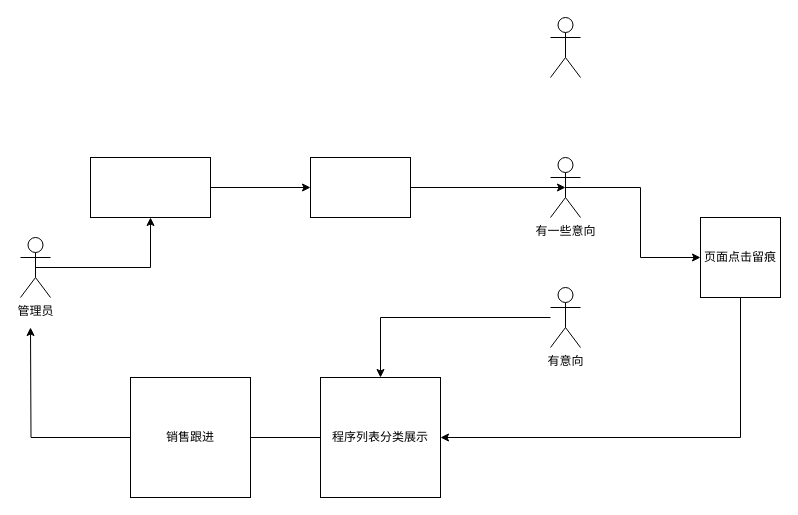
Some shapes in this 798 by 515 pixel diagram are drawn without their labels. Each missing label, with the box of its shape:
完全无意向: (550, 16, 580, 78)
本群体中营销方案: (310, 156, 410, 218)
获取可能得用户群体: (90, 156, 210, 218)
